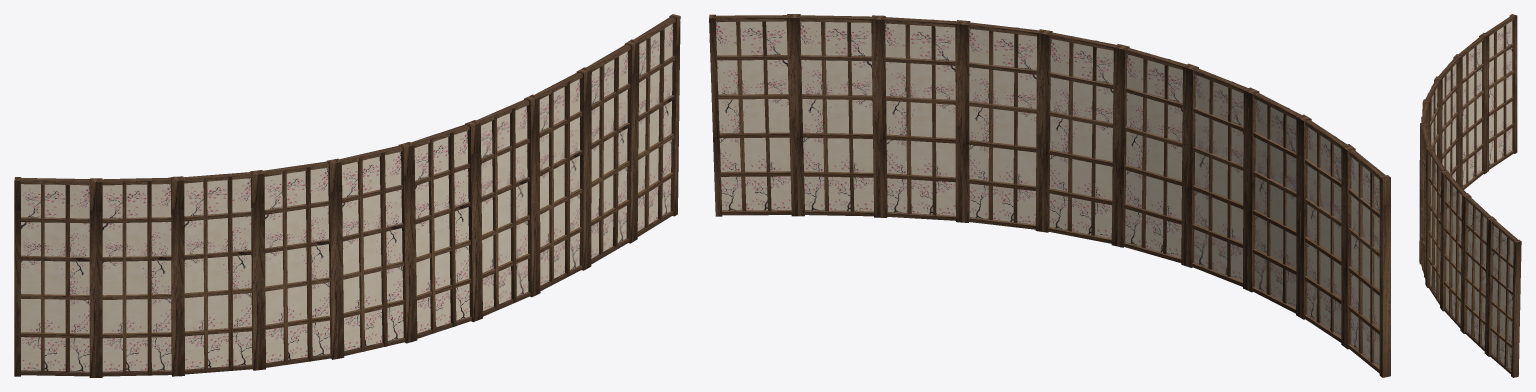
The model's file is Shoji1.fbx.
The picture shows the model from 3 angles, left to right: view 1: azimuth 30°, elevation 25°; view 2: azimuth 150°, elevation 25°; view 3: azimuth 270°, elevation 25°; orthographic projection. The views are drawn at different scales.
Parts seen in each view (by area): view 1: Plane.002; view 2: Plane.002; view 3: Plane.002.
Boxes of the visible parts, x1=… form: Plane.002: x1=14, y1=14, x2=680, y2=377; Plane.002: x1=709, y1=14, x2=1390, y2=377; Plane.002: x1=1419, y1=14, x2=1521, y2=377.
Size of the model in its own units: 720 by 205 by 136.
Materials: 1 (1 with a texture image).
